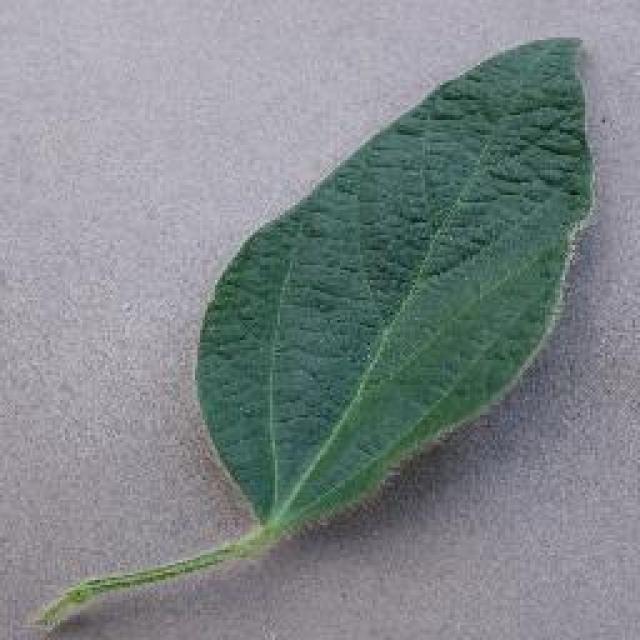Soy_healthy: (231, 42, 612, 504)
